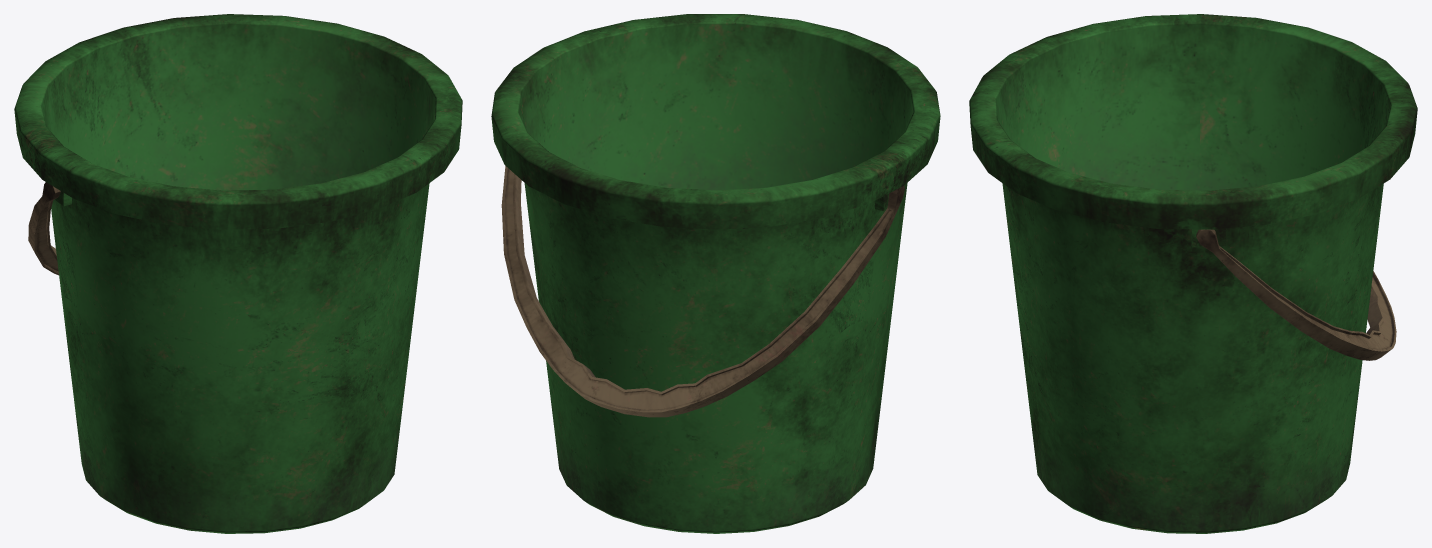
Rendered from Green_Pail.fbx.
The picture shows the model from 3 angles, left to right: view 1: azimuth 30°, elevation 25°; view 2: azimuth 150°, elevation 25°; view 3: azimuth 270°, elevation 25°; orthographic projection.
Visible parts, largest first — view 1: Baldi; view 2: Baldi; view 3: Baldi.
Part boxes in pixels (bbox=[...]): Baldi: bbox=[14, 14, 462, 533]; Baldi: bbox=[491, 14, 940, 533]; Baldi: bbox=[969, 14, 1417, 533].
Size of the model in its own units: 51.47 by 46.17 by 51.44.
